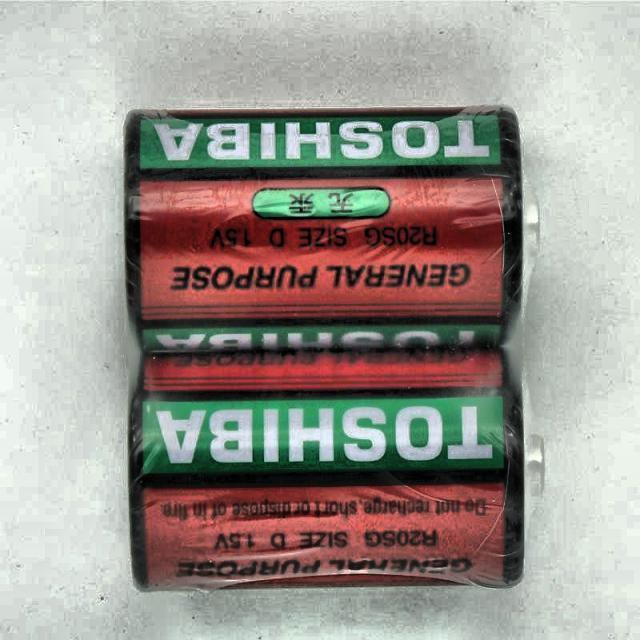battery: (125, 107, 522, 586)
